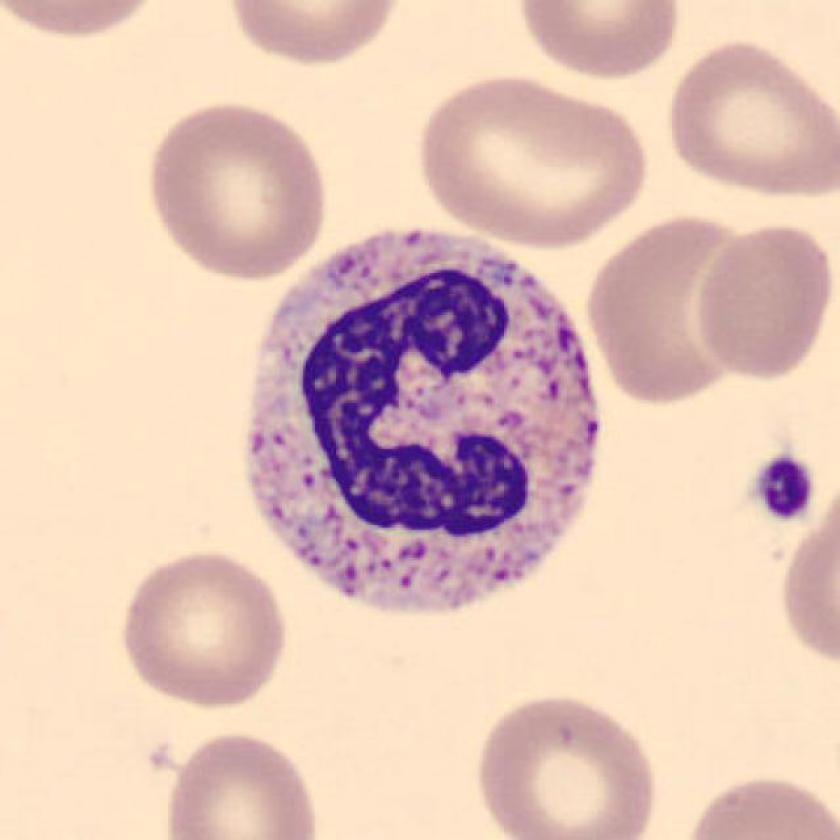neutrophil: (245, 226, 597, 620)
